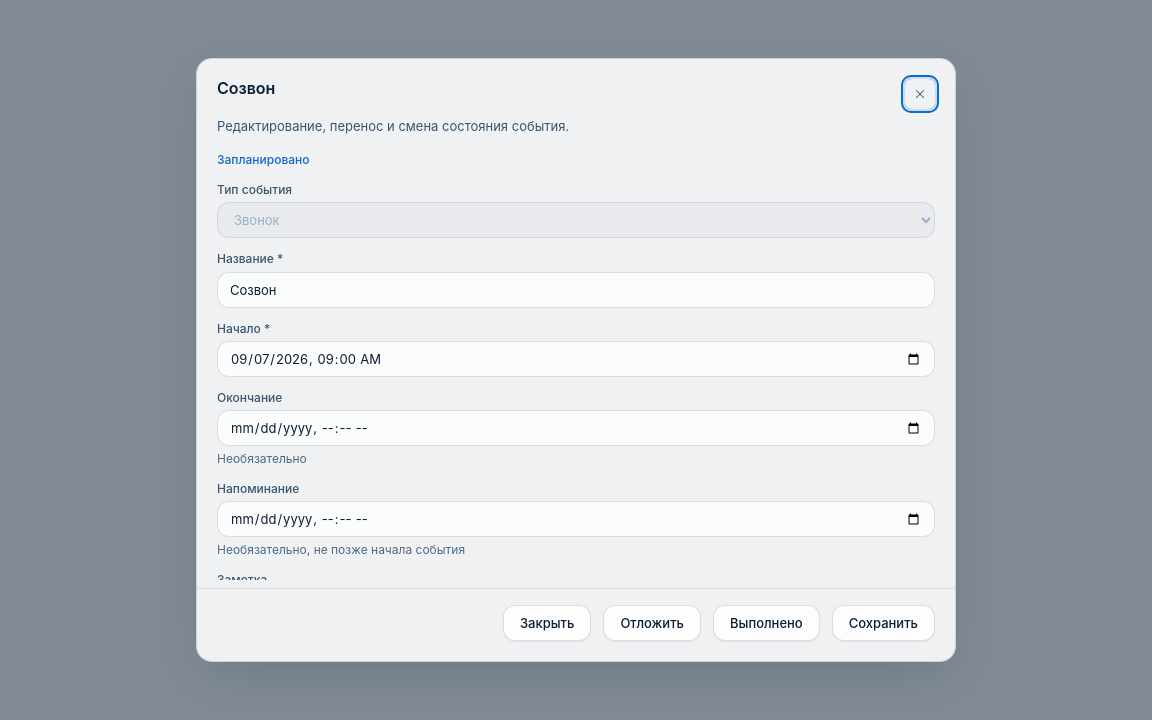
Test case: EventFormModal (edit) › shows the server error on version conflict and nothing is saved
The width and height of the screenshot is (1152, 720).
Click the button "Выполнено".
click(766, 623)  # box [713,605,820,641]
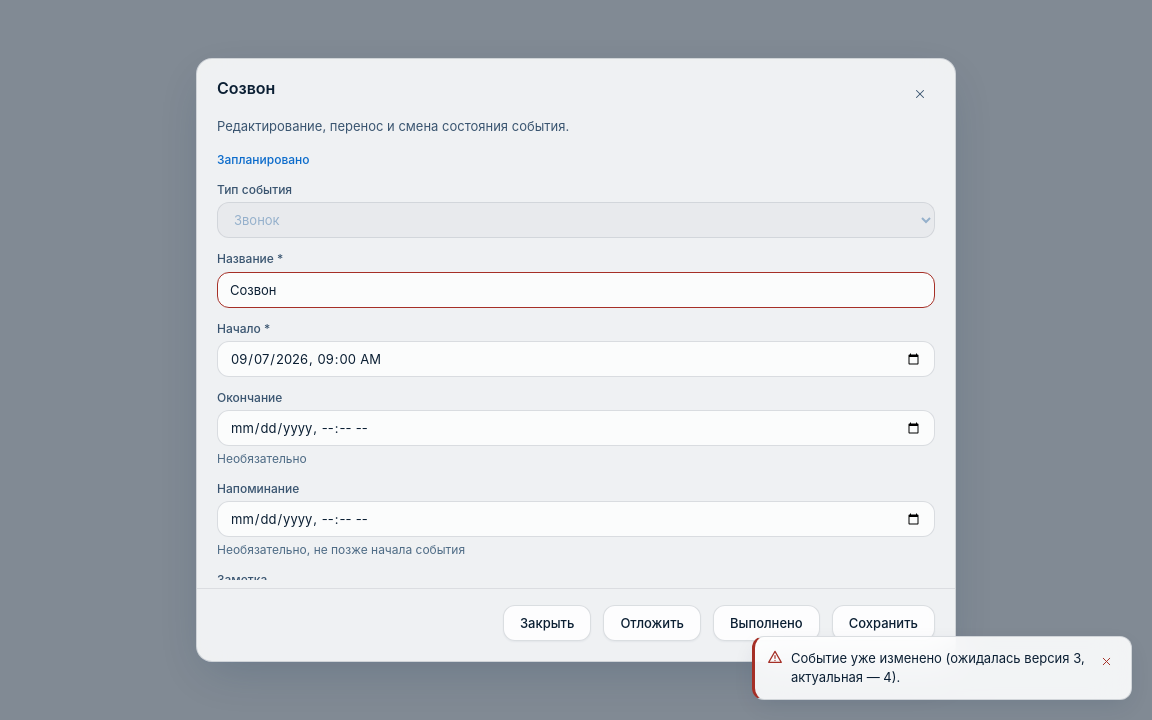
Result: the text "Событие уже изменено (ожидалась версия 3, актуальная — 4)." is shown at [791,649,1086,687]
